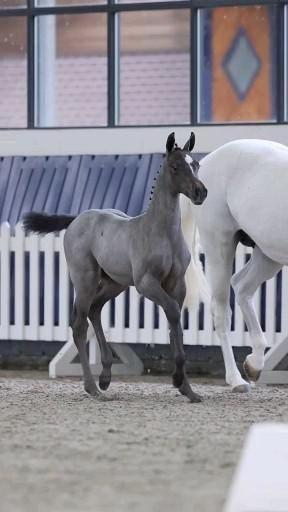horse: (21, 130, 208, 403), (180, 136, 287, 392)
